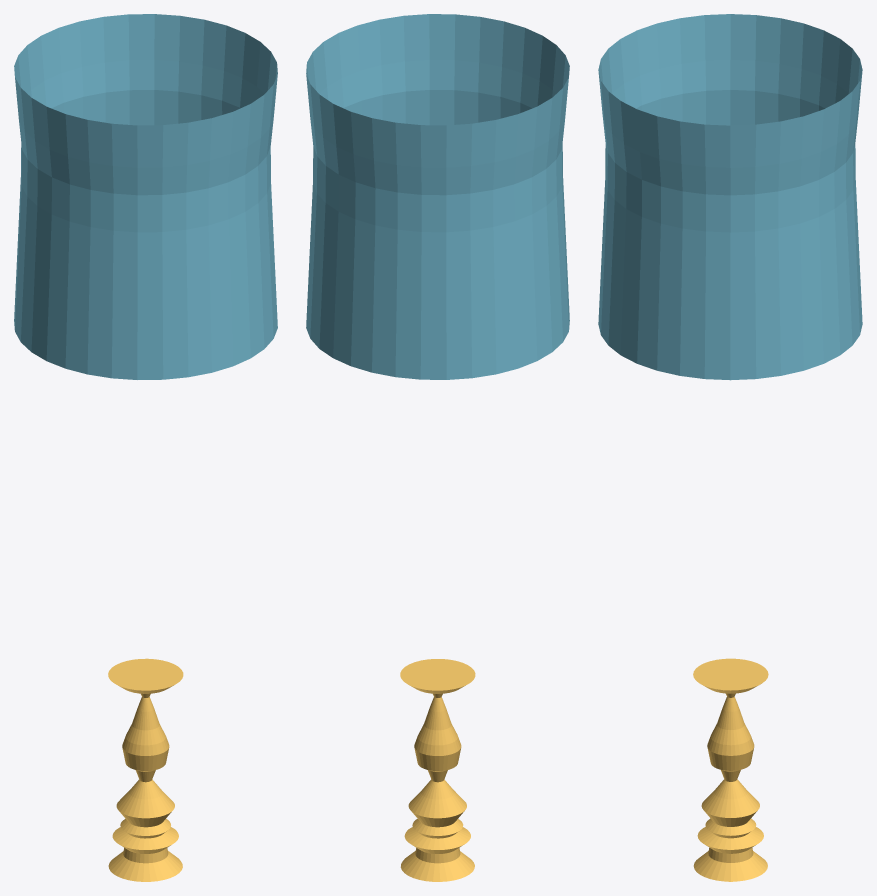
The model's file is lamp1.glb.
The picture shows the model from 3 angles, left to right: view 1: azimuth 30°, elevation 25°; view 2: azimuth 150°, elevation 25°; view 3: azimuth 270°, elevation 25°; orthographic projection.
Visible parts, largest first — view 1: LampShade, LampStand; view 2: LampShade, LampStand; view 3: LampShade, LampStand.
Boxes of the visible parts, <box> form: LampShade: <box>14,14,277,379</box>; LampStand: <box>108,658,183,881</box>; LampShade: <box>306,14,569,379</box>; LampStand: <box>400,659,475,881</box>; LampShade: <box>598,14,862,380</box>; LampStand: <box>693,658,768,881</box>.
Bounding box in the file's own units: 7 × 23.27 × 7.
Materials: 2 (1 with a texture image).
